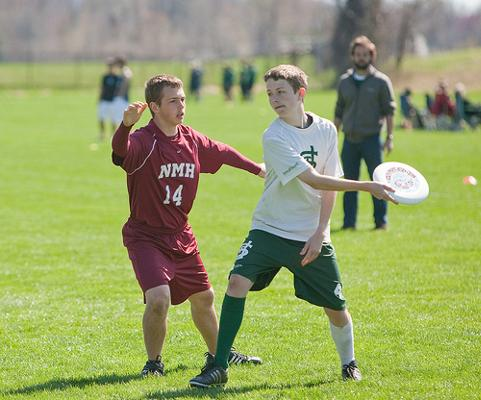person: (188, 64, 400, 390)
